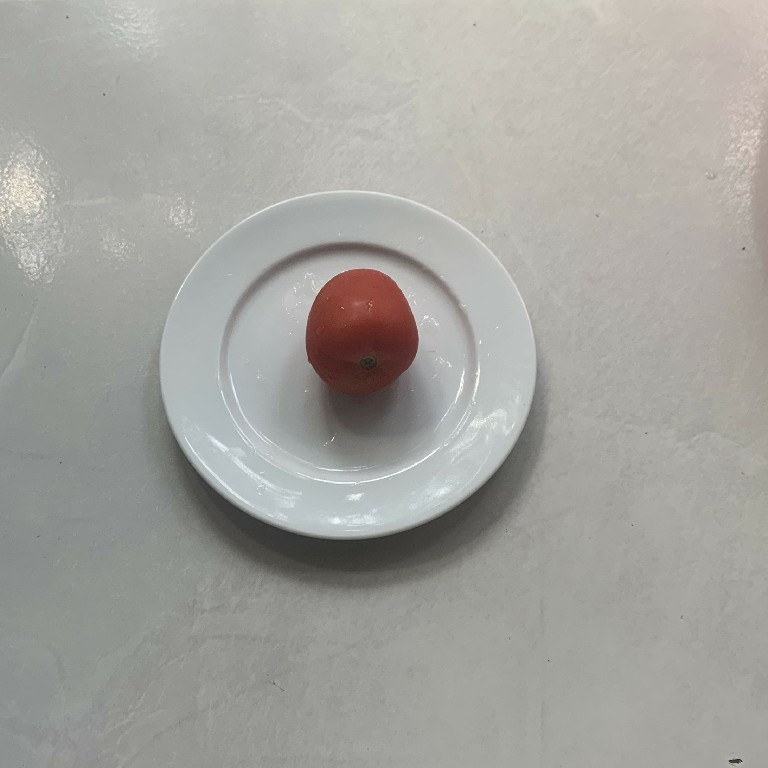OK: (300, 266, 416, 396)
